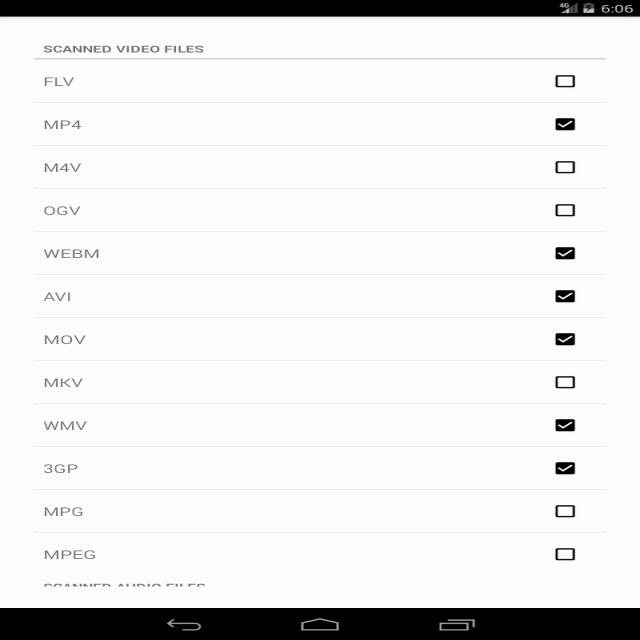CheckBox: (538, 498, 586, 518), (548, 70, 586, 92), (552, 416, 580, 444), (550, 288, 584, 310), (550, 542, 578, 568), (547, 330, 579, 350), (552, 157, 584, 177), (552, 375, 586, 393), (552, 114, 582, 134), (552, 242, 584, 260), (548, 462, 582, 478), (552, 200, 582, 218)
EditText: (37, 44, 208, 56)
TextView: (35, 416, 113, 436), (33, 374, 89, 400), (28, 201, 94, 223), (46, 111, 92, 137), (40, 508, 97, 528), (34, 246, 112, 260), (45, 285, 79, 313), (42, 160, 86, 178), (39, 74, 88, 90), (42, 459, 82, 478), (45, 331, 91, 347), (37, 550, 104, 558)
